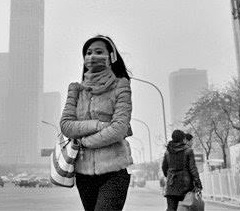person: (48, 32, 136, 211), (157, 127, 208, 211)
